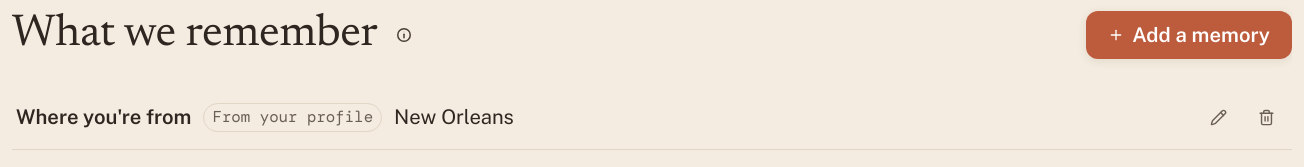
Test case: MemoriesList — row edit/forget › forget: clears the value via forgetMemoryAction
This screenshot has width=1304, height=167.
Click the button named "Forget this" at (1266, 117), box [1244,95,1288,139]
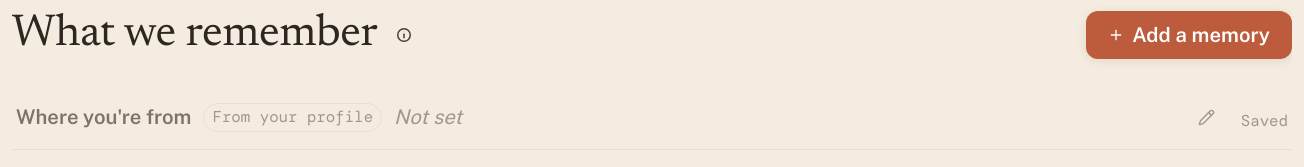
Now the text "Not set" is shown, box [394,105,462,129]
